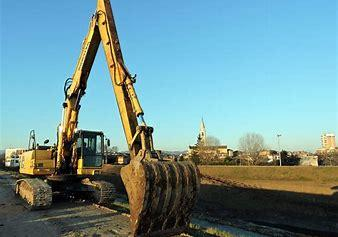excavator: (15, 0, 196, 228)
